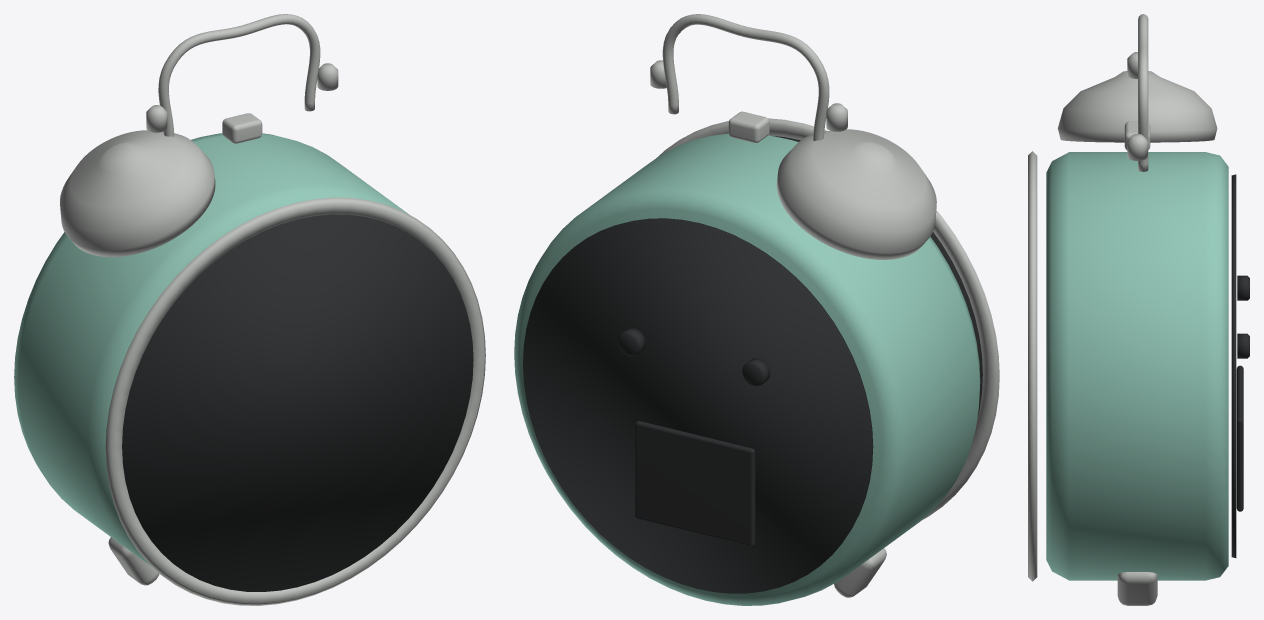
Rendered from static.glb.
3 views of the same model, side by side, from view 1: azimuth 30°, elevation 25°; view 2: azimuth 150°, elevation 25°; view 3: azimuth 270°, elevation 25° (orthographic). The views are drawn at different scales.
Parts seen in each view (by area): view 1: Face, Clock body, Front rim, Bell -1, Top handle, Foot -1, Top button; view 2: Rear plate, Clock body, Bell -1, Battery cover, Front rim, Top handle, Foot -1, Top button, Face; view 3: Clock body, Bell -1, Front rim, Rear plate, Top handle, Foot 1, Battery cover, Bell bolt 1, Rear knob -1, Rear knob 1, Top button.
Boxes of the visible parts, box(x1,y1,x2,y2) form: Face: box(122, 214, 473, 591); Clock body: box(14, 133, 409, 565); Front rim: box(105, 197, 485, 605); Bell -1: box(60, 130, 215, 257); Top handle: box(158, 14, 320, 136); Foot -1: box(108, 537, 159, 585); Top button: box(222, 113, 262, 143); Rear plate: box(523, 218, 873, 593); Clock body: box(514, 133, 980, 605); Bell -1: box(776, 129, 936, 259); Battery cover: box(635, 421, 755, 546); Front rim: box(657, 118, 999, 519); Top handle: box(662, 14, 829, 140); Foot -1: box(834, 548, 886, 597); Top button: box(728, 111, 769, 142); Face: box(773, 136, 982, 416); Clock body: box(1046, 152, 1228, 580); Bell -1: box(1057, 71, 1217, 142); Front rim: box(1028, 151, 1037, 581); Rear plate: box(1231, 174, 1236, 557); Top handle: box(1138, 14, 1148, 171); Foot 1: box(1117, 572, 1157, 605); Battery cover: box(1236, 365, 1243, 511); Bell bolt 1: box(1127, 133, 1147, 160); Rear knob -1: box(1237, 275, 1249, 300); Rear knob 1: box(1237, 333, 1249, 358); Top button: box(1124, 121, 1150, 150).
Size of the model in its own units: 0.756 by 1.02 by 0.389.
14 materials, 14 textured.
